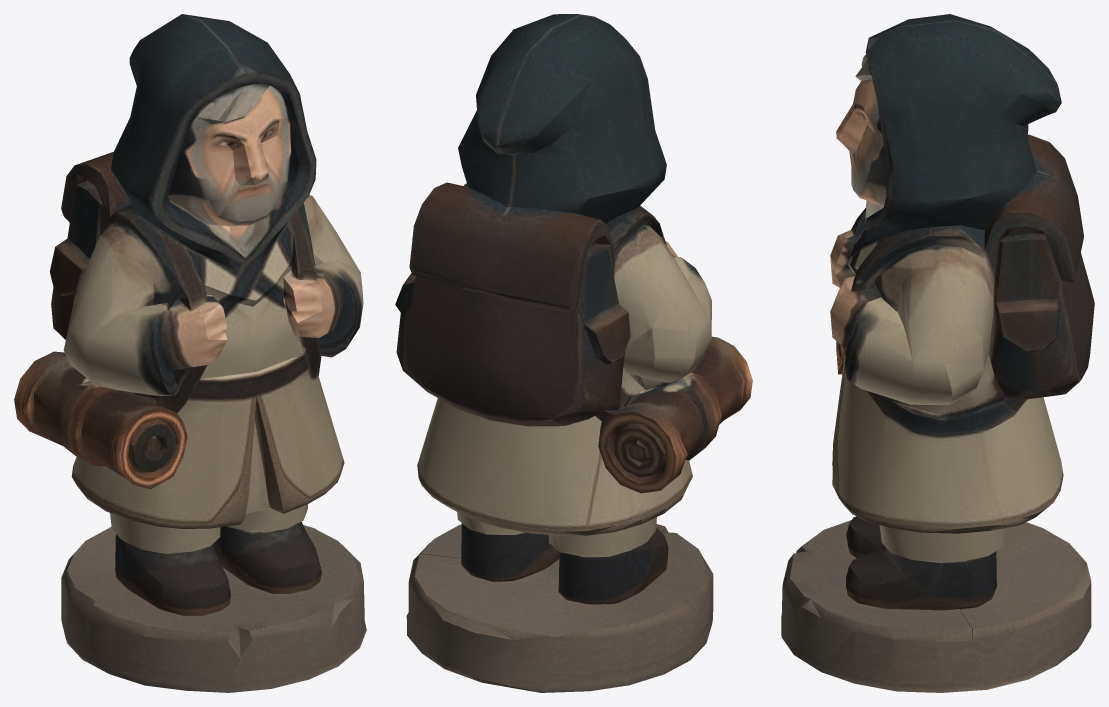
File: unit-ranger-map.glb
The picture shows the model from 3 angles, left to right: view 1: azimuth 30°, elevation 25°; view 2: azimuth 150°, elevation 25°; view 3: azimuth 270°, elevation 25°; orthographic projection.
Bounding box in the file's own units: 0.4946 × 0.9512 × 0.4458.
Materials: 1 (1 with a texture image).
